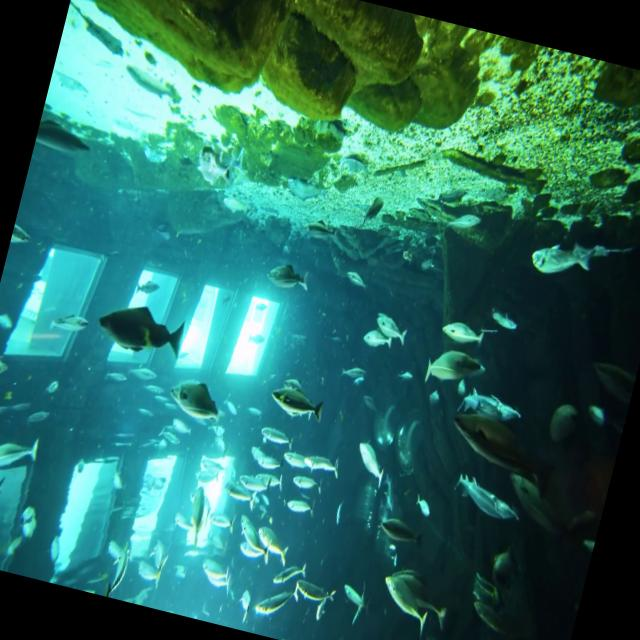fish: (91, 301, 189, 368), (370, 559, 442, 633), (448, 468, 530, 531), (451, 381, 532, 444), (419, 334, 491, 396), (262, 378, 328, 437)
